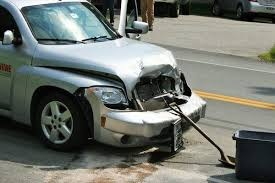Smashed: (70, 54, 206, 123)
